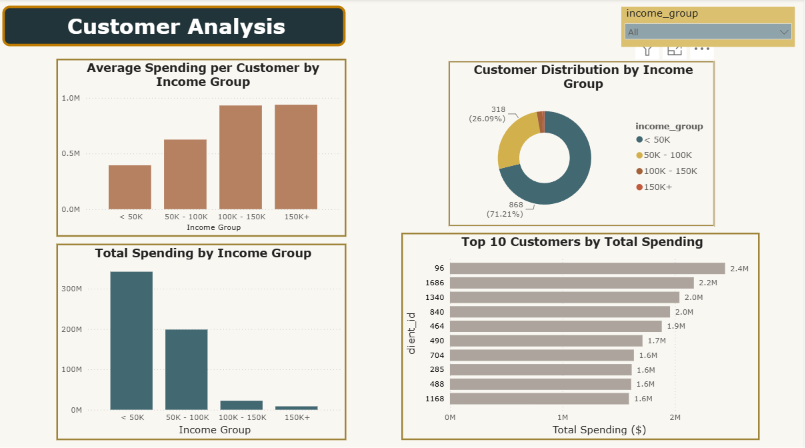

The dashboard page shown, as its layout file describes it:
{"tool":"powerbi","page":{"name":"Customer Analysis","canvas":[1280,720],"ordinal":1},"visuals":[{"type":"clusteredColumnChart","title":"Average Spending per Customer by Income Group","fields":{"Category":["05_income_group_analysis.income_group"],"Y":["Avg(05_income_group_analysis.avg_spending_per_customer)"]},"box":[91.2,94.9,461.3,283.1],"z":0},{"type":"donutChart","title":"Customer Distribution by Income Group","fields":{"Category":["05_income_group_analysis.income_group"],"Y":["Sum(05_income_group_analysis.customer_count)"]},"box":[714,98,424,264],"z":1000},{"type":"columnChart","title":"Total Spending by Income Group","fields":{"Category":["05_income_group_analysis.income_group"],"Y":["Sum(05_income_group_analysis.total_spending)"]},"box":[91.2,390,461.5,312.5],"z":2000},{"type":"clusteredBarChart","title":"Top 10 Customers by Total Spending","fields":{"Category":["04_top_customers (2).client_id"],"Y":["Sum(04_top_customers (2).total_spending)"]},"box":[640,372,570,330],"z":3000},{"type":"textbox","title":"Customer Analysis","box":[4.9,11.3,545.7,64.8],"z":4000},{"type":"slicer","fields":{"Values":["05_income_group_analysis.income_group"]},"box":[990,12,276,64],"z":5000}]}

Visuals, with their boxes in screenshot pixels (x1, y1, x2, y2), scaled from the page's 1280x720 canvas onto the 805x448 screenshot:
"Average Spending per Customer by Income Group" clusteredColumnChart: {"left": 57, "top": 59, "right": 347, "bottom": 235}
"Customer Distribution by Income Group" donutChart: {"left": 449, "top": 61, "right": 716, "bottom": 225}
"Total Spending by Income Group" columnChart: {"left": 57, "top": 243, "right": 348, "bottom": 437}
"Top 10 Customers by Total Spending" clusteredBarChart: {"left": 402, "top": 231, "right": 761, "bottom": 437}
"Customer Analysis" textbox: {"left": 3, "top": 7, "right": 346, "bottom": 47}
slicer - 05_income_group_analysis.income_group: {"left": 623, "top": 7, "right": 796, "bottom": 47}
